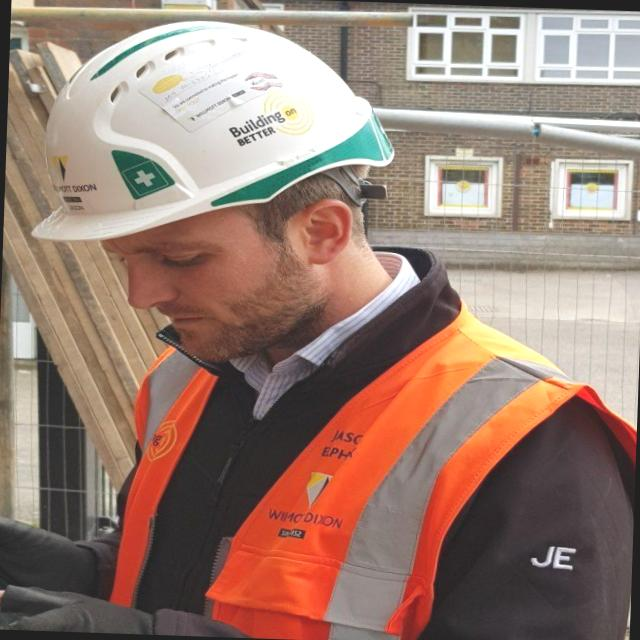helmet: (26, 10, 433, 258)
no-goggles: (109, 221, 278, 291)
vest: (114, 306, 640, 640)
